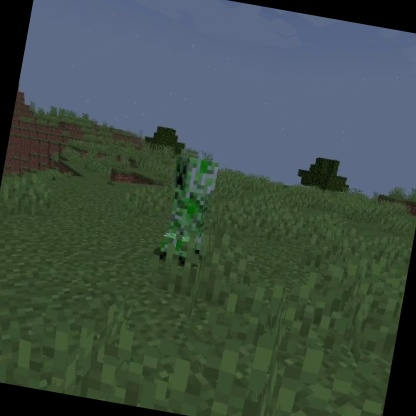creeper: (149, 151, 226, 274)
